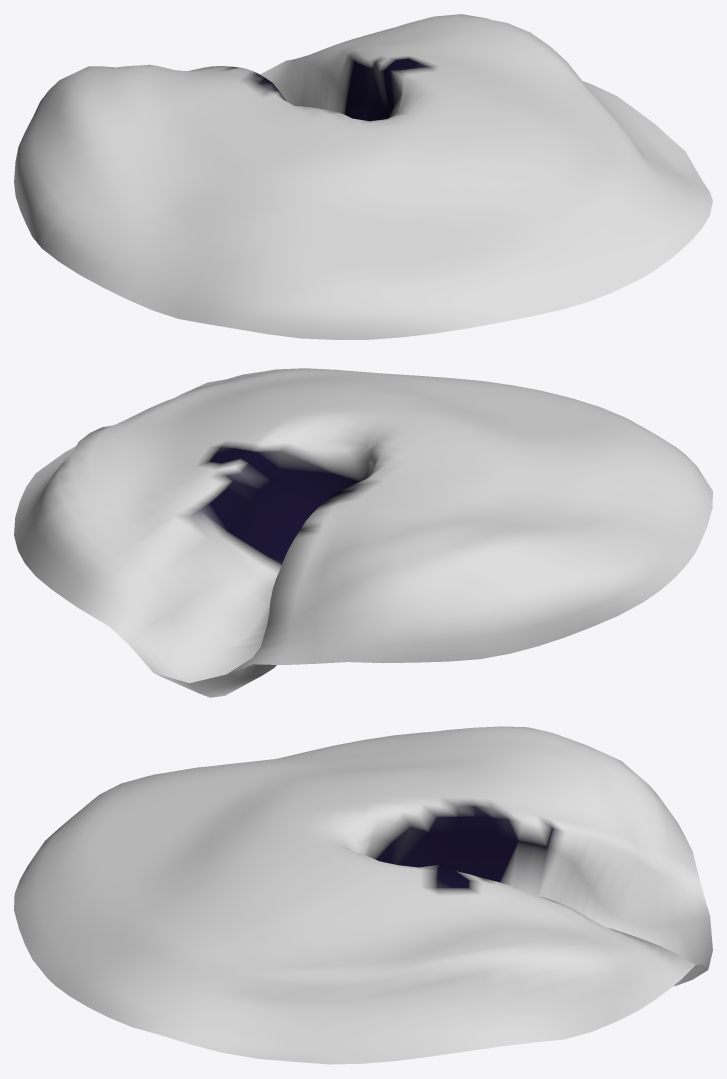
Rendered from Sand_02.fbx.
3 renders of one model, top to bottom at view 1: azimuth 30°, elevation 25°; view 2: azimuth 150°, elevation 25°; view 3: azimuth 270°, elevation 25°, orthographic. The views are drawn at different scales.
Visible parts, largest first — view 1: Plane.013; view 2: Plane.013; view 3: Plane.013.
Boxes of the visible parts, <box> form: Plane.013: <box>14,14,712,339</box>; Plane.013: <box>14,368,712,697</box>; Plane.013: <box>14,726,712,1064</box>.
Bounding box in the file's own units: 8964 × 2170 × 8910.
